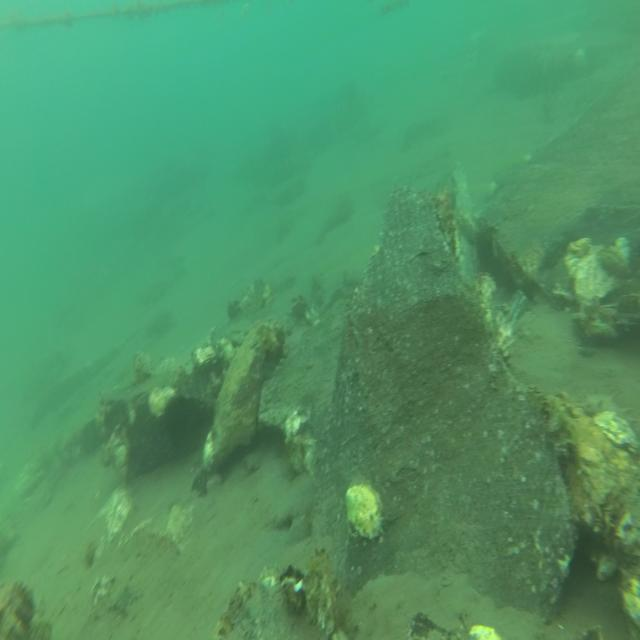echinus: (162, 390, 202, 448)
